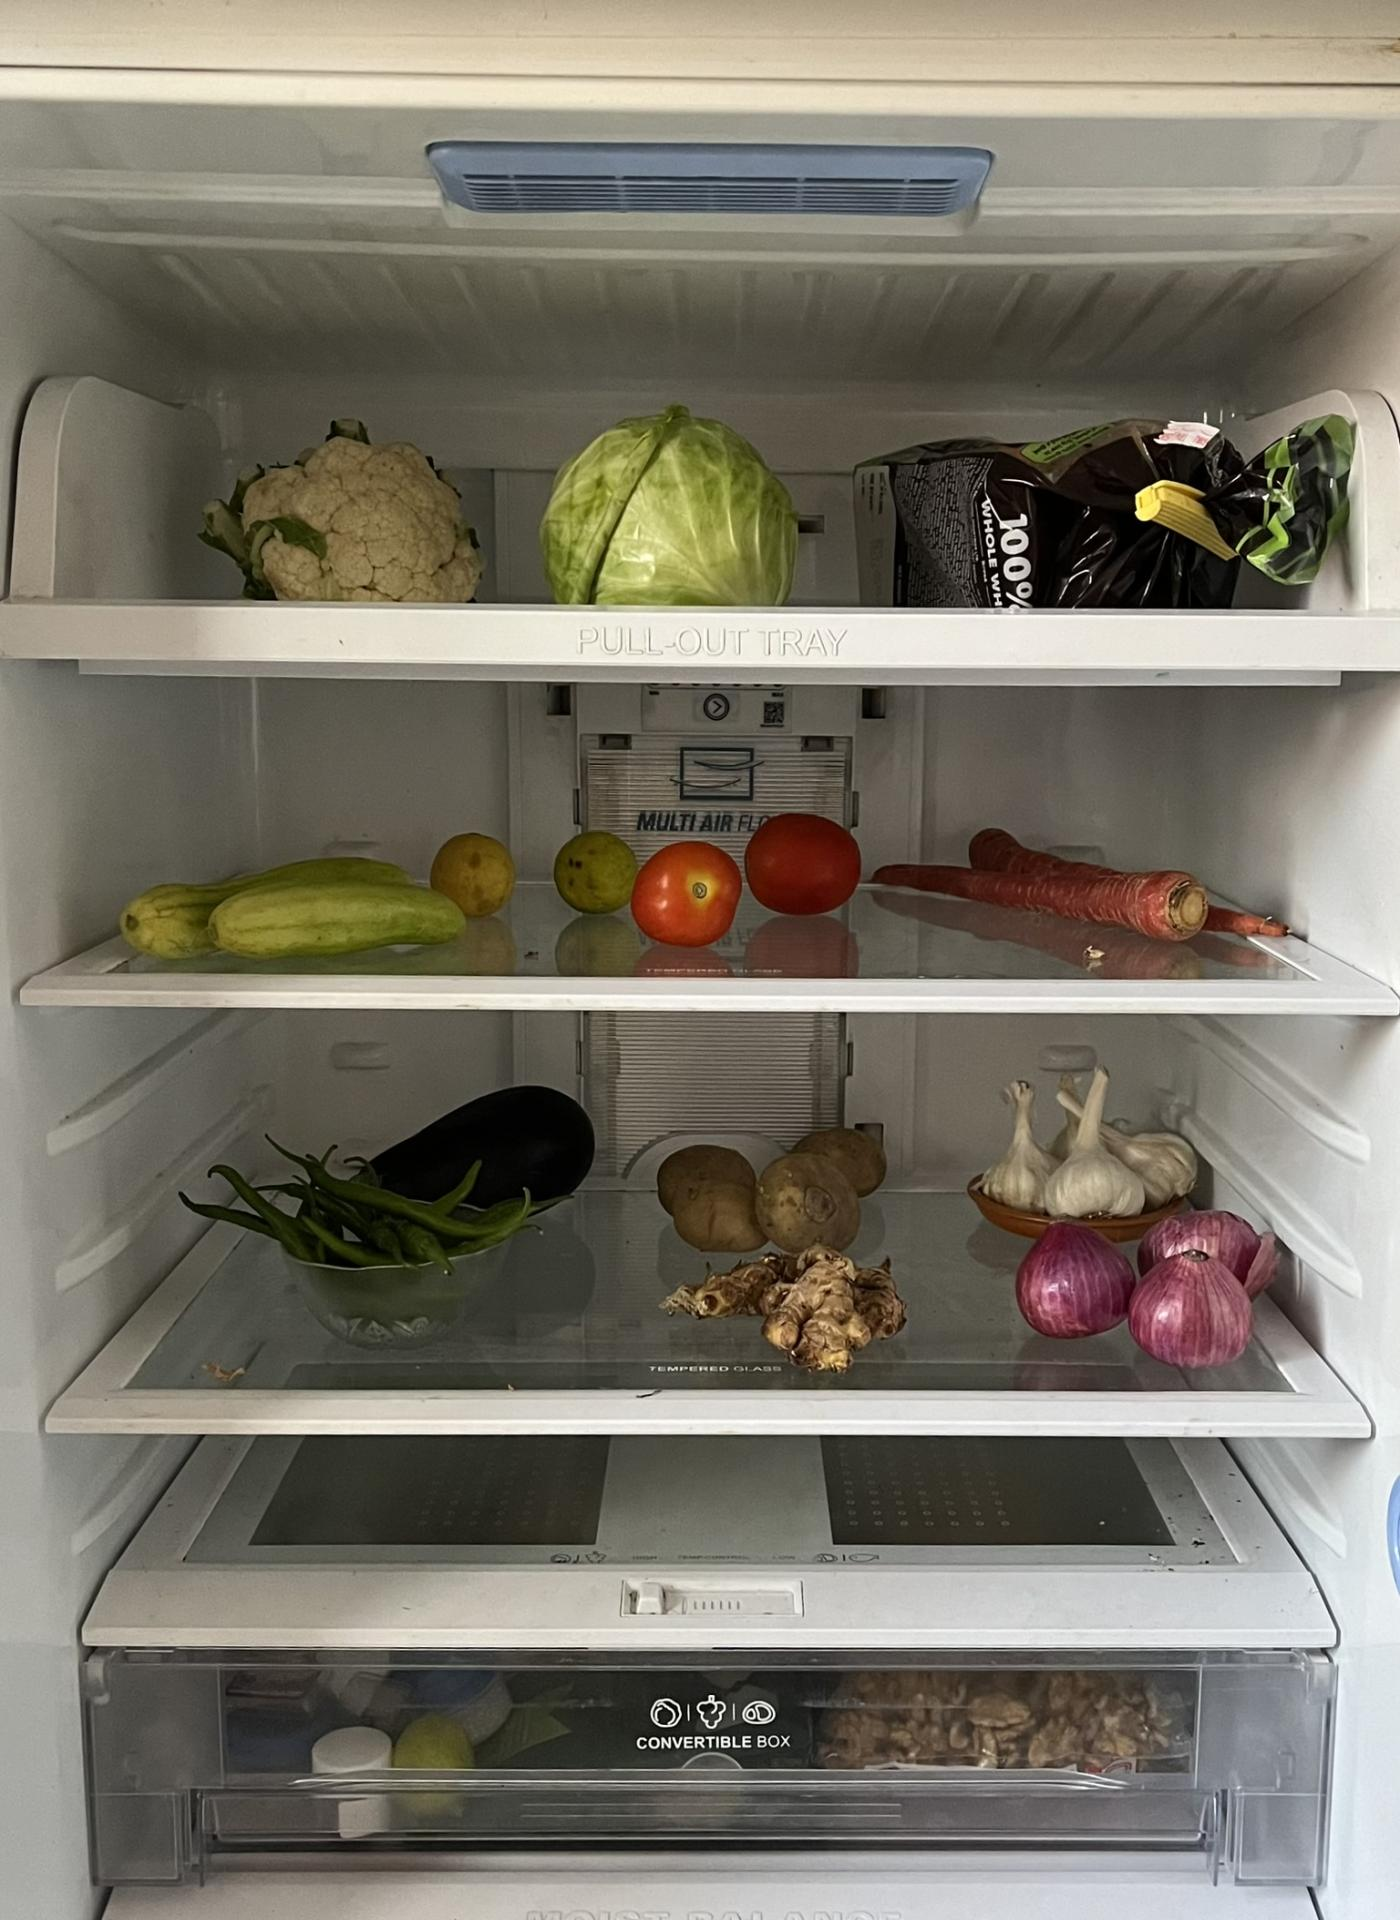bread: (868, 414, 1355, 614)
brinjal: (362, 1075, 613, 1224)
cabbage: (549, 386, 799, 611)
carrots: (872, 827, 1302, 950)
cauliflower: (225, 432, 494, 614)
chillies: (203, 1140, 553, 1340)
cucumber: (121, 865, 462, 947)
garlic: (986, 1070, 1161, 1209)
ginger: (675, 1234, 909, 1355)
lemon: (434, 841, 656, 921)
onion: (1032, 1207, 1285, 1357)
potato: (658, 1118, 889, 1249)
tomato: (640, 817, 863, 933)
